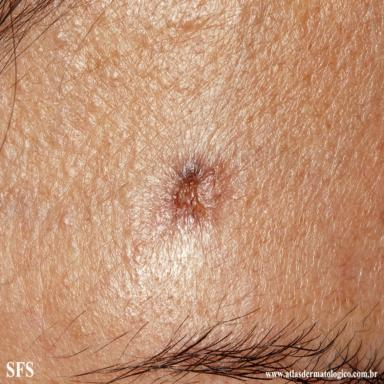basal-cell-carcinoma: (165, 154, 227, 228)
